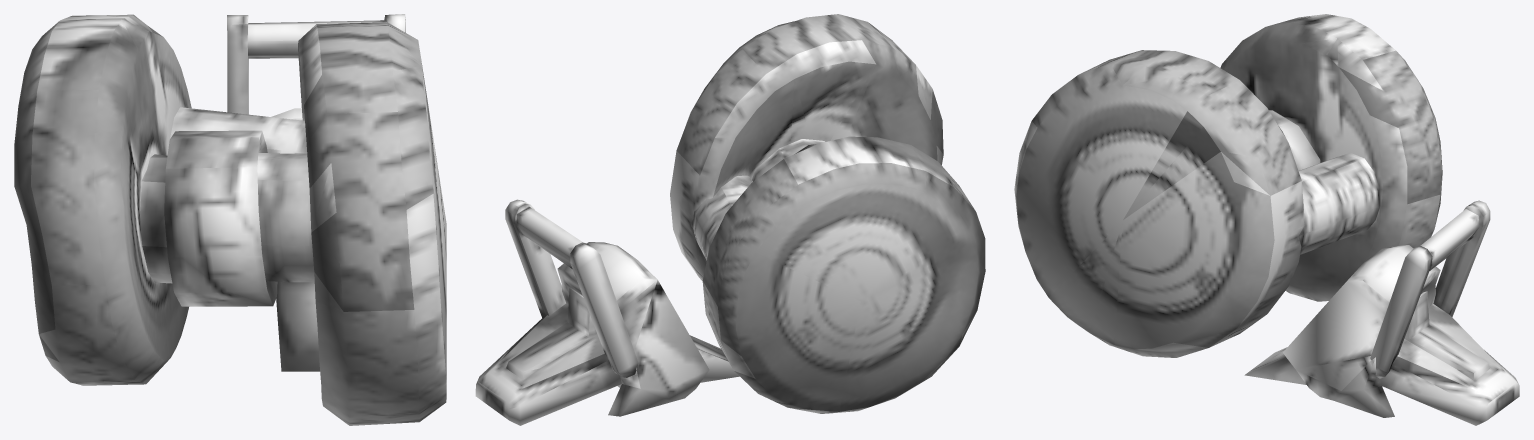
The model's file is bl_foot.glb.
The picture shows the model from 3 angles, left to right: view 1: azimuth 30°, elevation 25°; view 2: azimuth 150°, elevation 25°; view 3: azimuth 270°, elevation 25°; orthographic projection. The views are drawn at different scales.
Parts seen in each view (by area): view 1: bl_foot; view 2: bl_foot; view 3: bl_foot.
Part boxes in pixels (box(x1,y1,x2,y2)): bl_foot: box(14, 14, 446, 425); bl_foot: box(475, 14, 985, 425); bl_foot: box(1014, 14, 1519, 425).
Bounding box in the file's own units: 3.32 × 2.5 × 3.87.
Materials: 3 (3 with a texture image).
